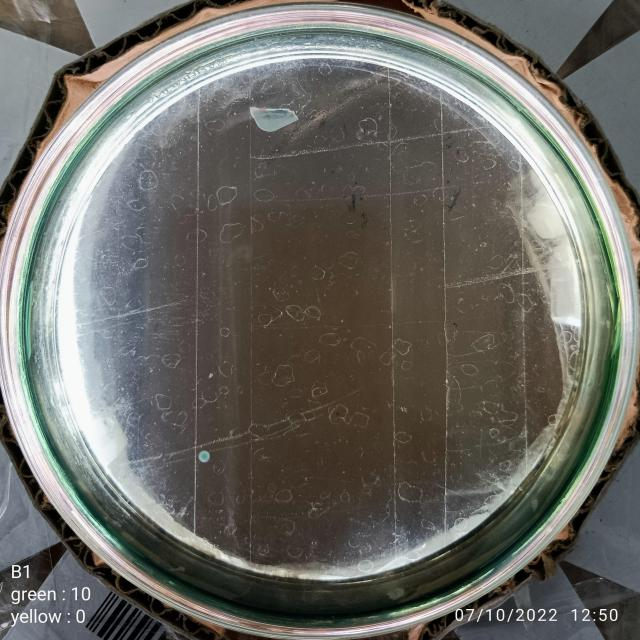green: (198, 450, 210, 462)
